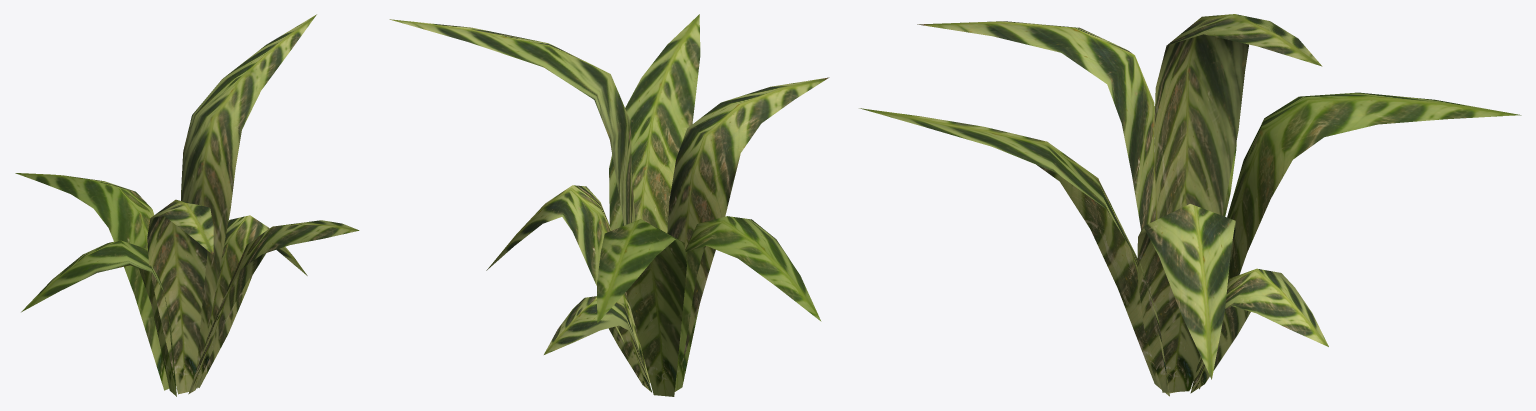
The model's file is plant_02.FBX.
3 renders of one model, left to right at view 1: azimuth 30°, elevation 25°; view 2: azimuth 150°, elevation 25°; view 3: azimuth 270°, elevation 25°, orthographic. The views are drawn at different scales.
Visible parts, largest first — view 1: Plane029; view 2: Plane029; view 3: Plane029.
Part boxes in pixels (x1,y1,x2,y2): Plane029: (15, 14, 359, 396); Plane029: (389, 14, 829, 396); Plane029: (859, 14, 1521, 396).
Bounding box in the file's own units: 69.55 × 60.28 × 78.97.
